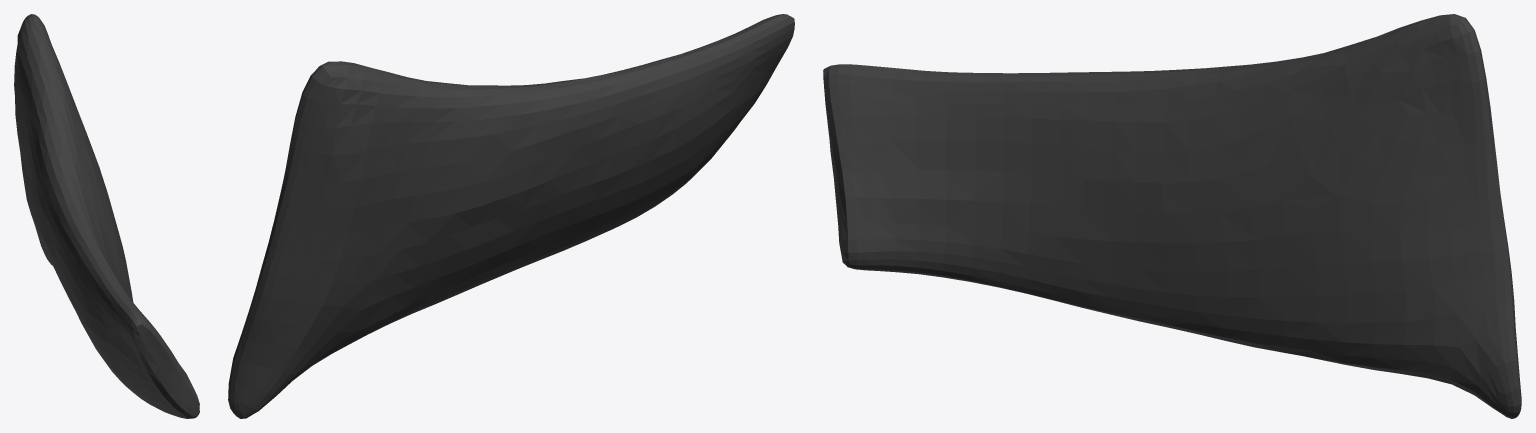
File: m_thyroarytenoideus_LO_R.glb
3 views of the same model, side by side, from view 1: azimuth 30°, elevation 25°; view 2: azimuth 150°, elevation 25°; view 3: azimuth 270°, elevation 25° (orthographic). The views are drawn at different scales.
Visible parts, largest first — view 1: m_thyroarytenoideus_LO_R; view 2: m_thyroarytenoideus_LO_R; view 3: m_thyroarytenoideus_LO_R.
Boxes of the visible parts, left/top/right/bottom form: m_thyroarytenoideus_LO_R: left=14, top=14, right=199, bottom=418; m_thyroarytenoideus_LO_R: left=228, top=14, right=794, bottom=418; m_thyroarytenoideus_LO_R: left=823, top=14, right=1521, bottom=418.
Size of the model in its own units: 0.0808 by 0.1114 by 0.1899.
1 material, 1 textured.
